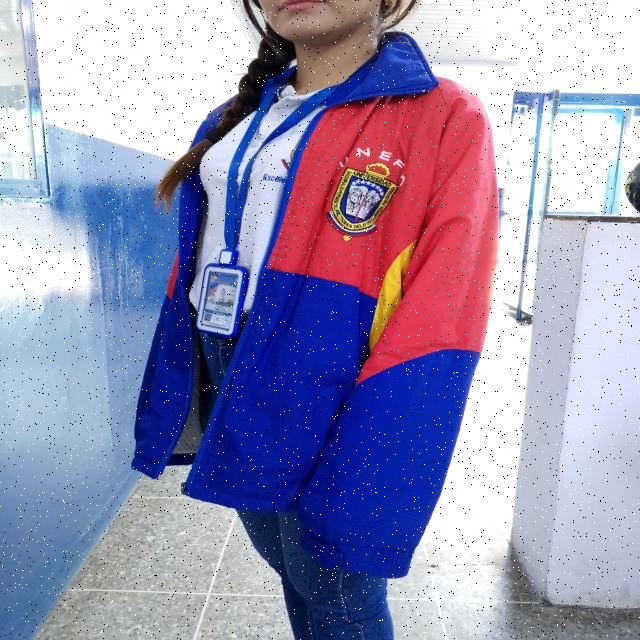carnet: (199, 269, 241, 333)
chaqueta_unefa: (129, 29, 500, 580)
